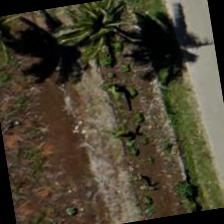Kelapa_Sawit: (40, 0, 141, 79)
